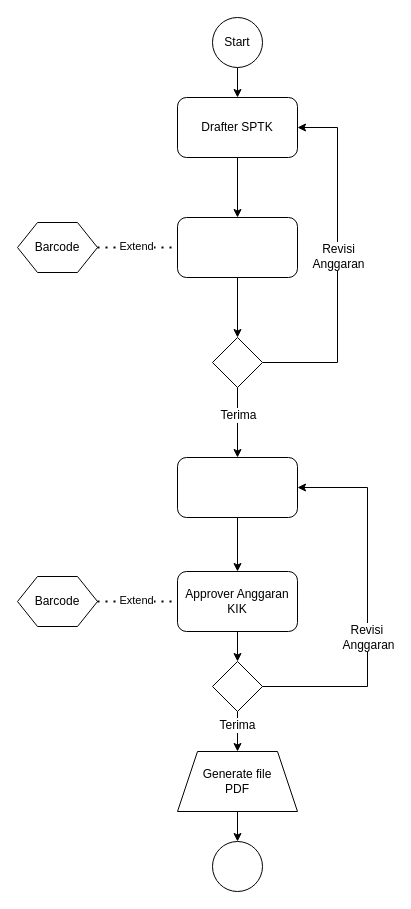
This 411x909 diagram has some shape labels left out. The centre of each missing label's shape, as x and y in pixels:
"Approval VP dari SPTK (Verifikator)" belongs at (x=237, y=247).
"End" belongs at (x=237, y=866).
"PIC Anggaran" belongs at (x=237, y=487).
